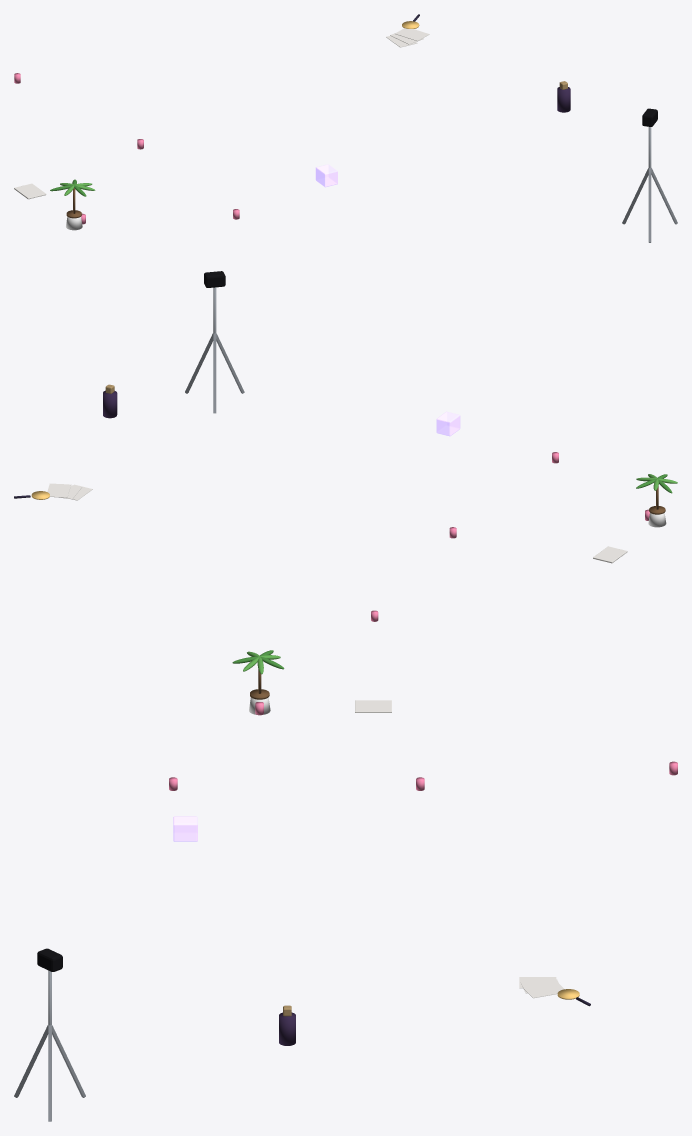
The model's file is props.glb.
3 renders of one model, top to bottom at view 1: azimuth 30°, elevation 25°; view 2: azimuth 150°, elevation 25°; view 3: azimuth 270°, elevation 25°, orthographic. The views are drawn at different scales.
Visible parts, largest first — view 1: LAB_prisma_holo; view 2: no part large enough to name; view 3: no part large enough to name.
Boxes of the visible parts, x1=… form: LAB_prisma_holo: x1=315, y1=164, x2=337, y2=187.
Bounding box in the file's own units: 6.53 × 1.36 × 5.37.
